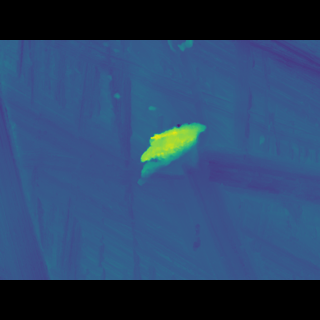Loch: (132, 128, 210, 182)
